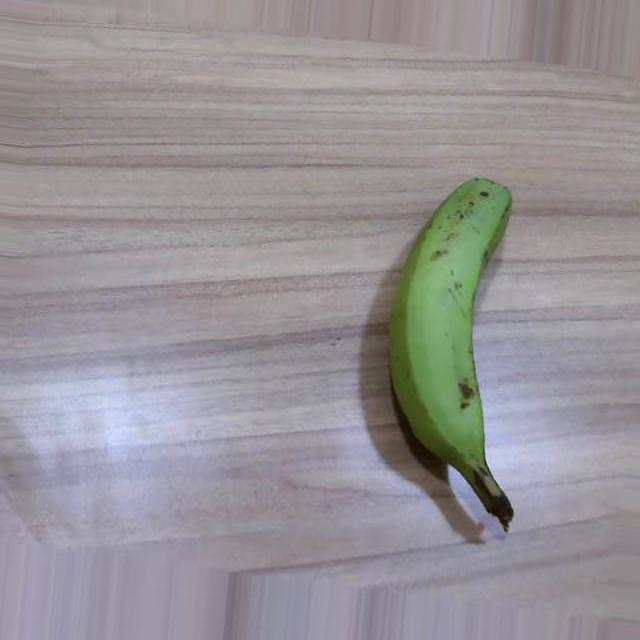Unripe: (390, 175, 513, 532)
